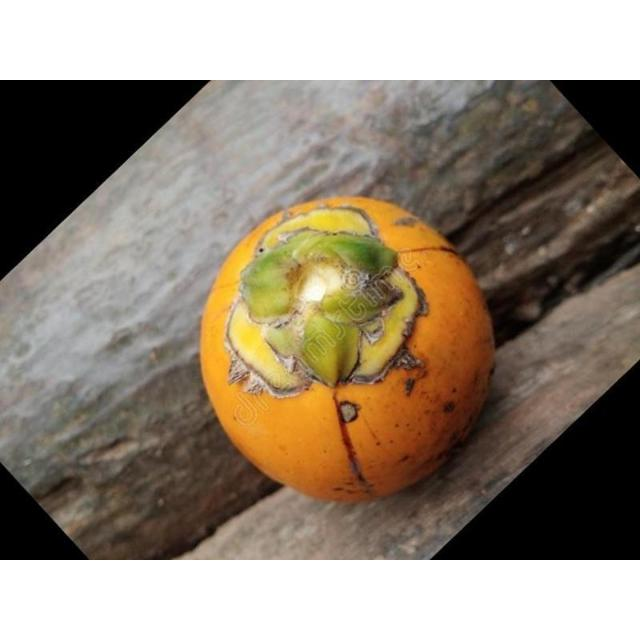good: (198, 197, 496, 505)
